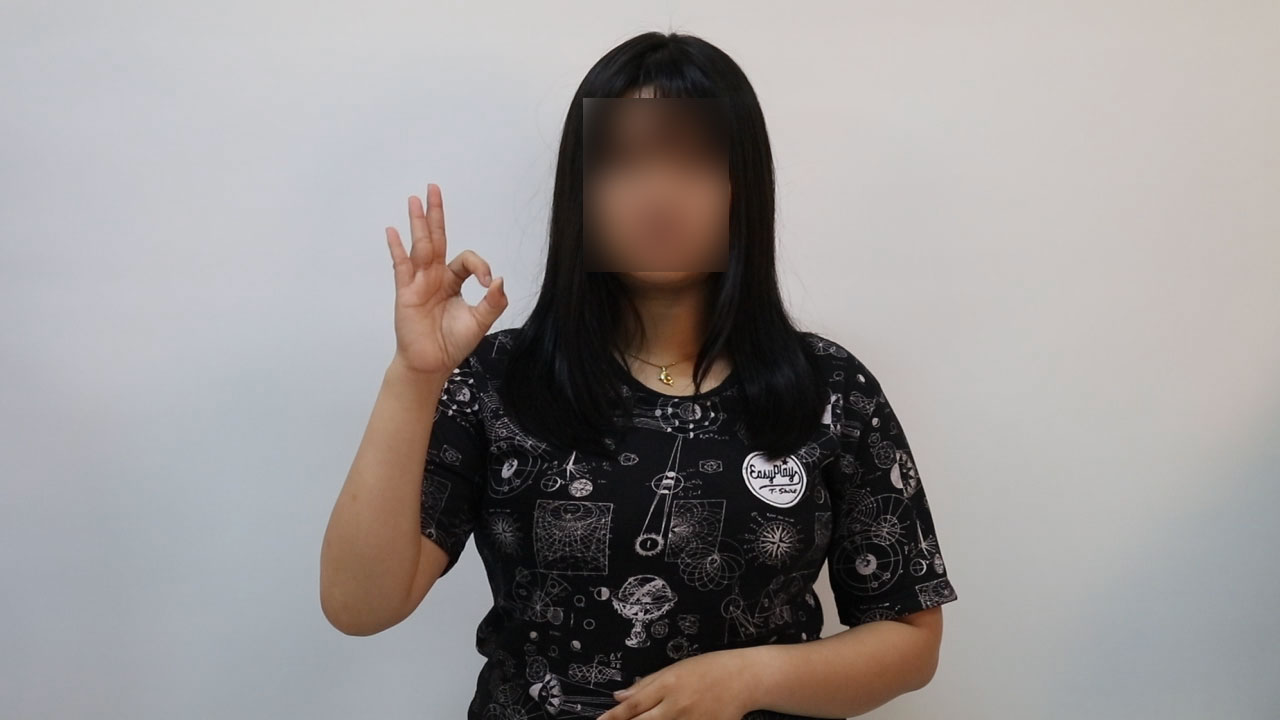for: (372, 171, 512, 386)
